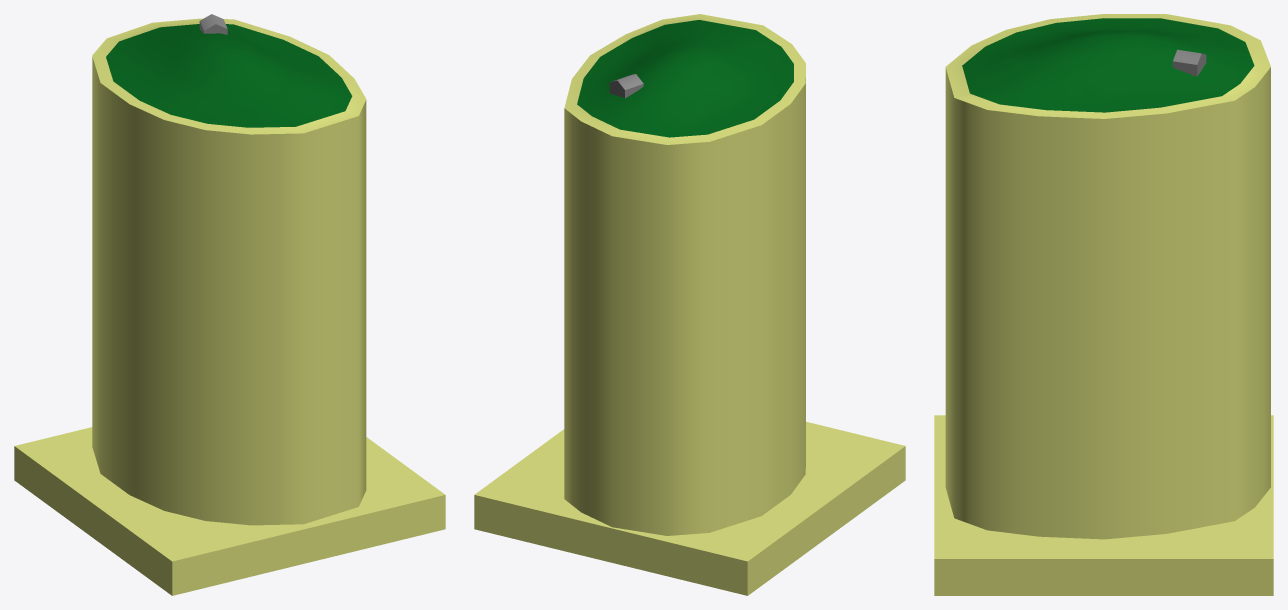
File: Quest_Little_Island_01.fbx
3 renders of one model, left to right at view 1: azimuth 30°, elevation 25°; view 2: azimuth 150°, elevation 25°; view 3: azimuth 270°, elevation 25°, orthographic. The views are drawn at different scales.
Parts seen in each view (by area): view 1: Quest_Little_Island_01; view 2: Quest_Little_Island_01, Little_Quest_01; view 3: Quest_Little_Island_01, Little_Quest_01.
Part boxes in pixels (left/top/right/bottom): Quest_Little_Island_01: left=14, top=18, right=445, bottom=595; Quest_Little_Island_01: left=474, top=14, right=905, bottom=595; Little_Quest_01: left=609, top=74, right=643, bottom=98; Quest_Little_Island_01: left=934, top=14, right=1273, bottom=595; Little_Quest_01: left=1172, top=49, right=1206, bottom=76.
Size of the model in its own units: 34.03 by 53.92 by 34.03.
